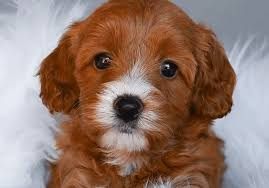dog: (25, 2, 238, 187)
